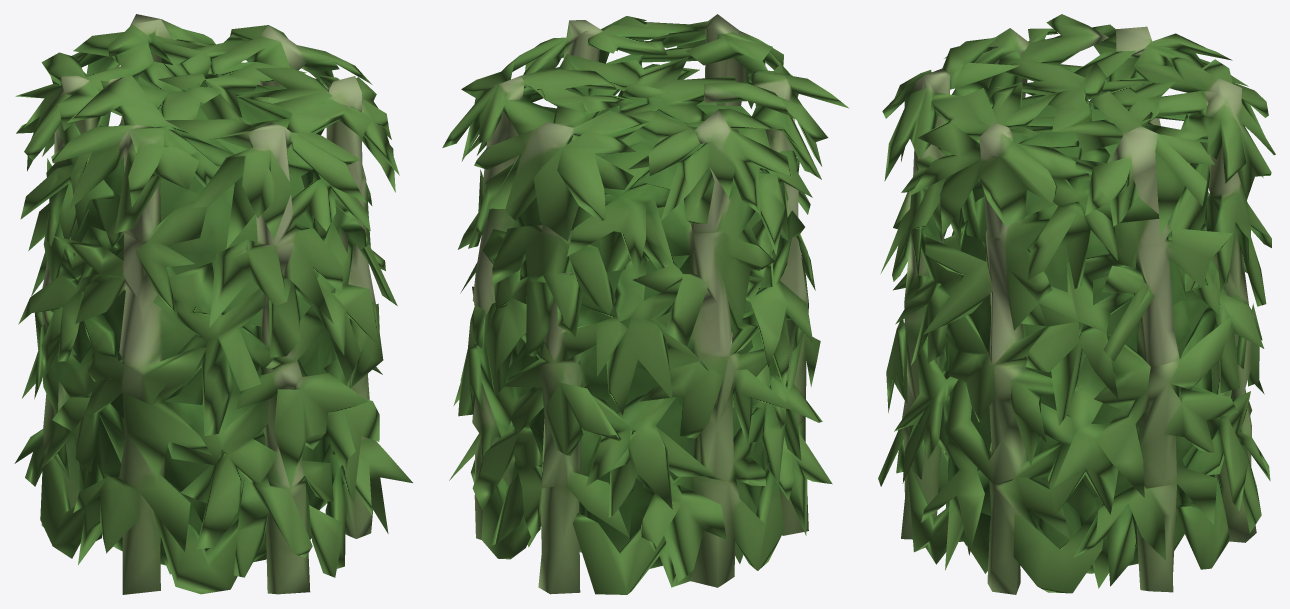
File: bamboo.glb
3 renders of one model, left to right at view 1: azimuth 30°, elevation 25°; view 2: azimuth 150°, elevation 25°; view 3: azimuth 270°, elevation 25°, orthographic.
Parts seen in each view (by area): view 1: tripo_node_5467ed49-1d2f-494f-be51-e00ca176c0d9; view 2: tripo_node_5467ed49-1d2f-494f-be51-e00ca176c0d9; view 3: tripo_node_5467ed49-1d2f-494f-be51-e00ca176c0d9.
Part boxes in pixels (x1,y1,x2,y2): tripo_node_5467ed49-1d2f-494f-be51-e00ca176c0d9: [14, 14, 412, 594]; tripo_node_5467ed49-1d2f-494f-be51-e00ca176c0d9: [442, 14, 849, 594]; tripo_node_5467ed49-1d2f-494f-be51-e00ca176c0d9: [878, 14, 1275, 594].
Size of the model in its own units: 0.7491 by 1 by 0.7628.
Materials: 1 (1 with a texture image).
